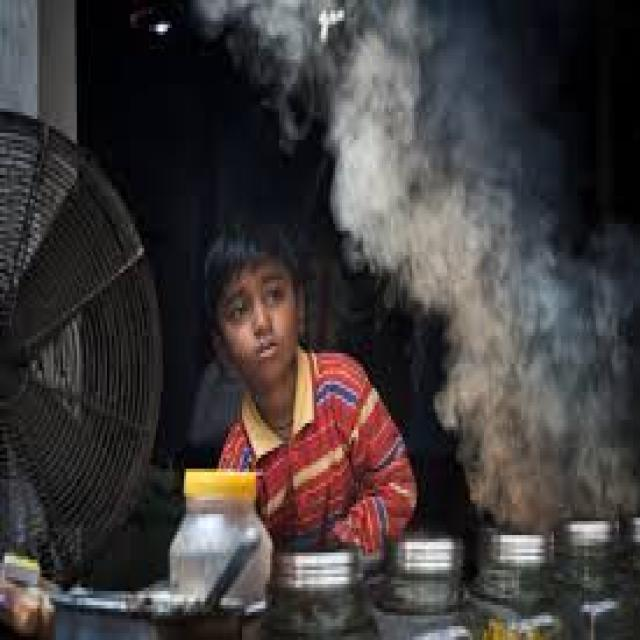Smoke: (190, 0, 640, 540)
